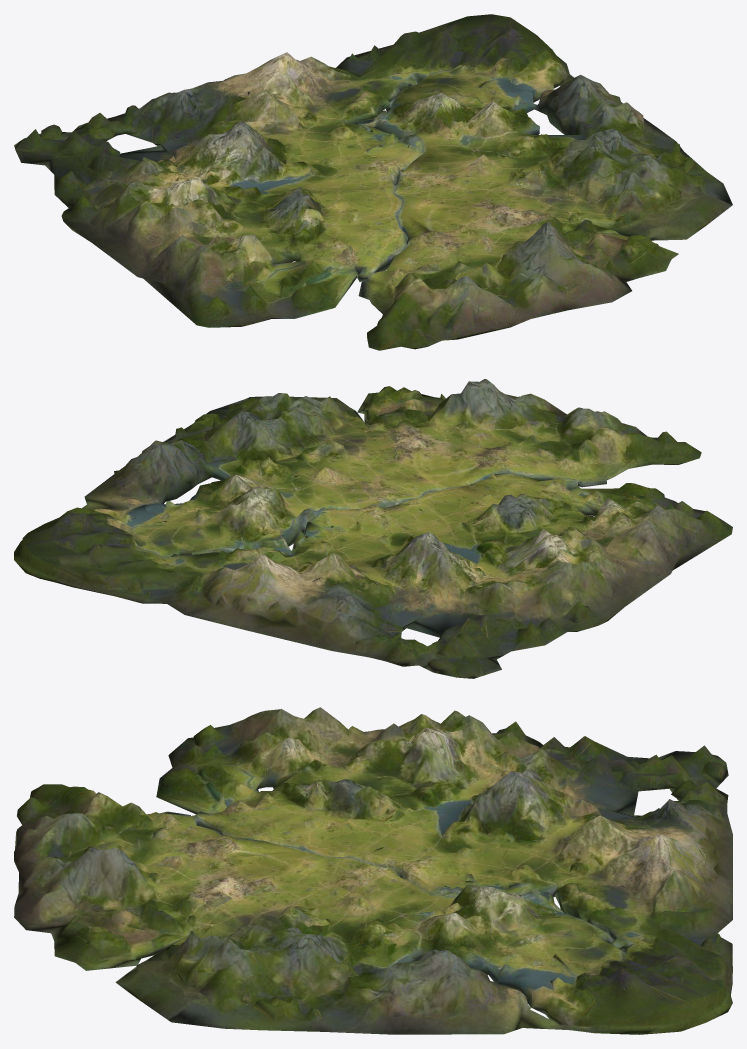
Rendered from SM_Terrain.glb.
3 renders of one model, top to bottom at view 1: azimuth 30°, elevation 25°; view 2: azimuth 150°, elevation 25°; view 3: azimuth 270°, elevation 25°, orthographic. The views are drawn at different scales.
Parts seen in each view (by area): view 1: Mesh_0; view 2: Mesh_0; view 3: Mesh_0.
Boxes of the visible parts, left/top/right/bottom form: Mesh_0: left=14, top=14, right=732, bottom=350; Mesh_0: left=14, top=379, right=732, bottom=678; Mesh_0: left=14, top=707, right=732, bottom=1034.
Size of the model in its own units: 298 by 30 by 300.
1 material, 1 textured.
